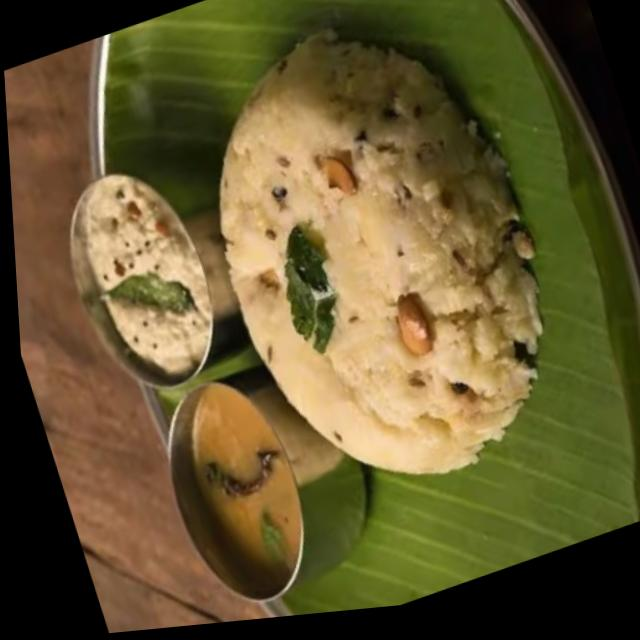PONGAL: (219, 28, 538, 477)
SAMBAR: (186, 386, 299, 588)
WHITE CHUTNEY: (78, 180, 210, 379)
